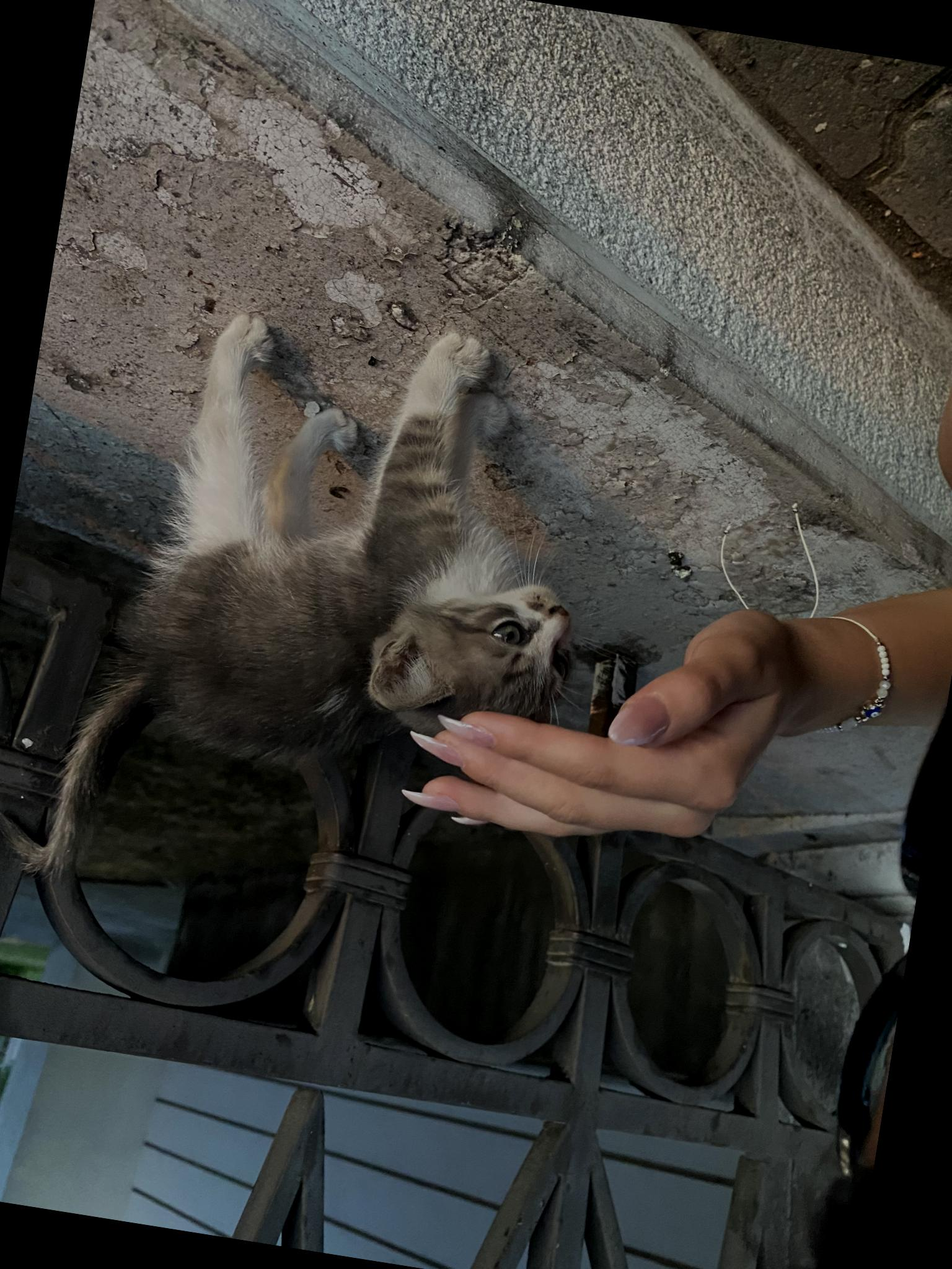macka: (4, 274, 623, 955)
